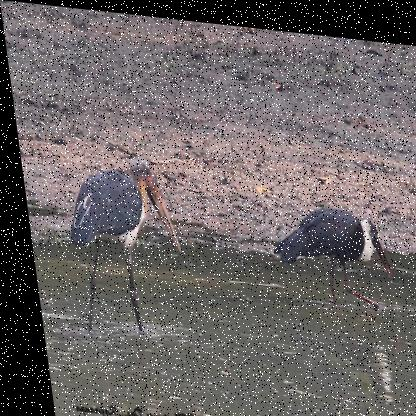Burung: (38, 145, 188, 344), (258, 188, 394, 304)
